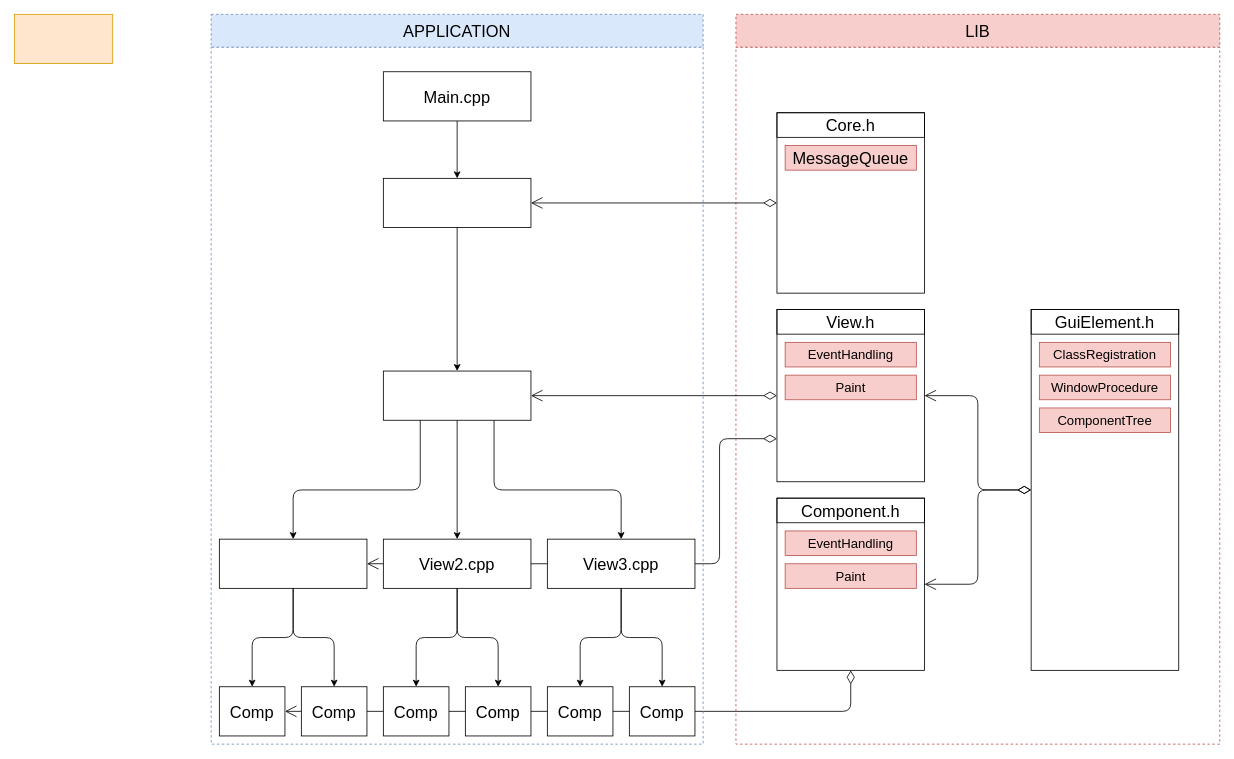
Some shapes in this 1234 by 759 pixel diagram are drawn without their labels. Here are the shapes that lost their labels. From the top down, the box of each, then its label:
(14, 14, 113, 64): Win32Wrapper (1.0) By Henrique Fantini
(383, 178, 531, 228): Core.cpp
(383, 370, 531, 420): ViewMain.cpp
(219, 538, 367, 588): View1.cpp
